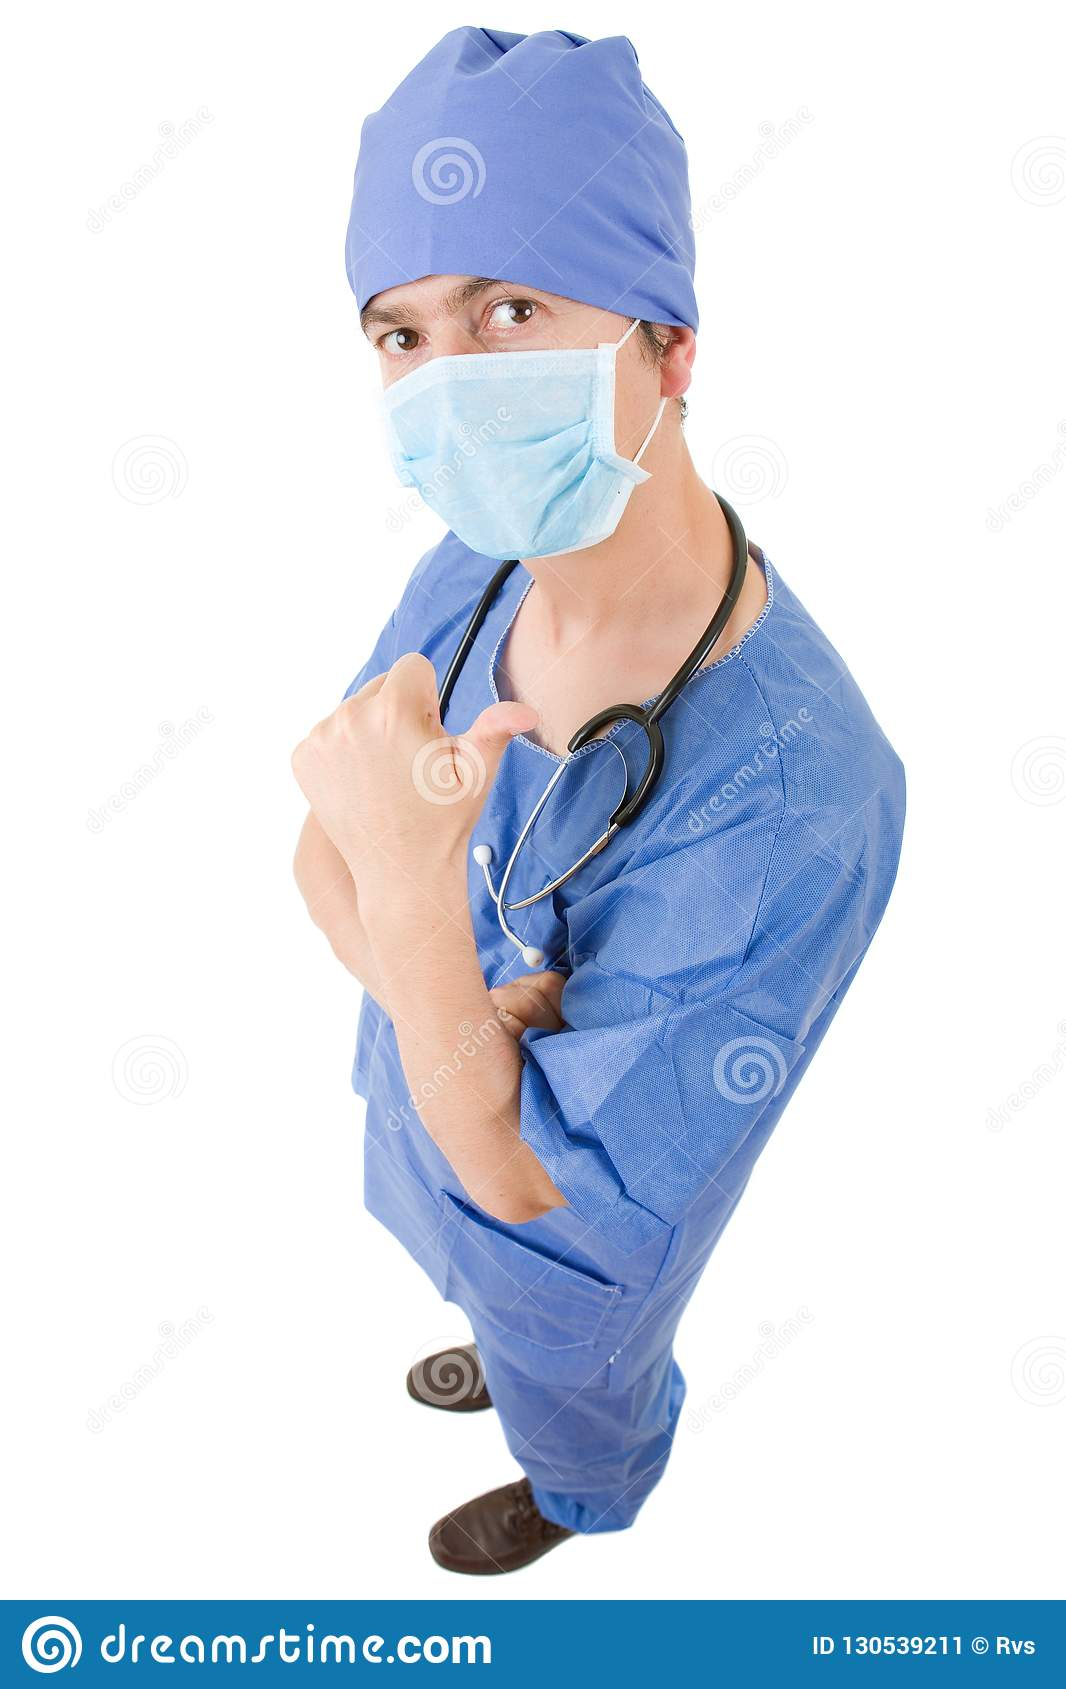mask: (378, 349, 651, 563)
